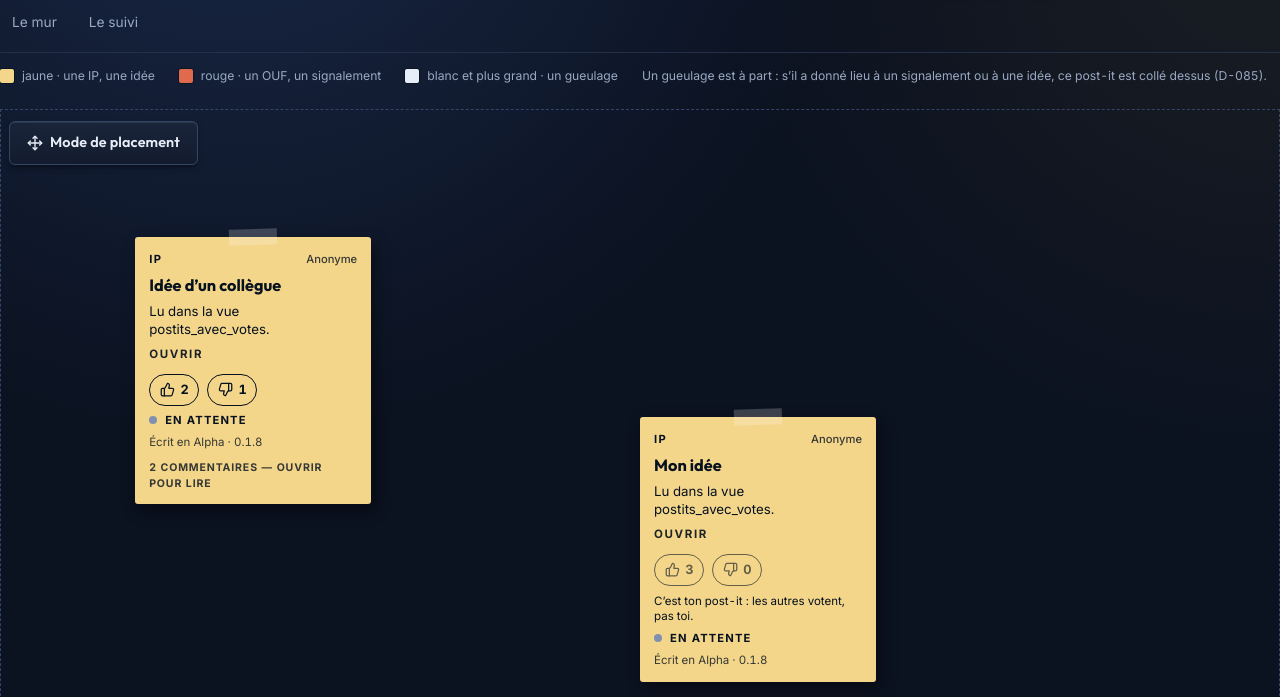
Test case: relire ou retirer son post-it (#139) › retirer mon post-it passe par la confirmation, puis par la couture
Check: the text "Mon idée" is shown, box [654,455,722,475]
Click the button with aria-label "Agrandir le post-it « Mon idée »".
click(758, 487)  # box [654,431,862,544]
(page scrolled)
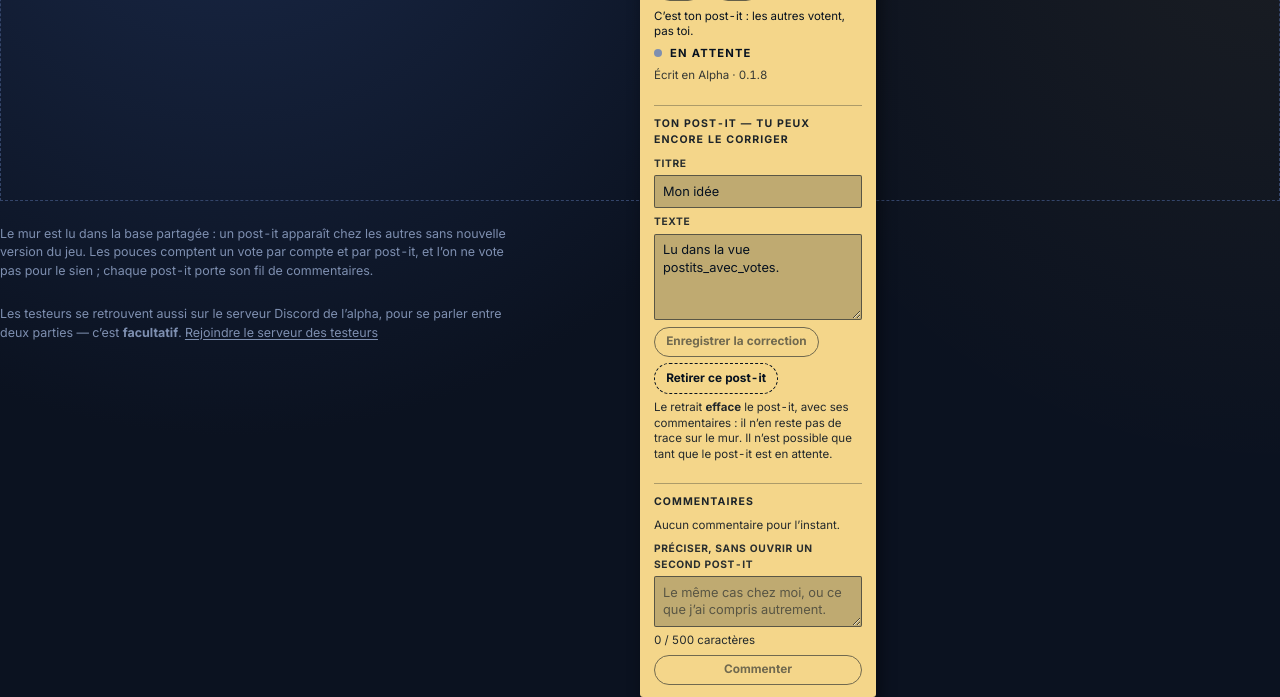
Click the button "Retirer ce post-it".
click(716, 379)  # box [654,363,778,394]
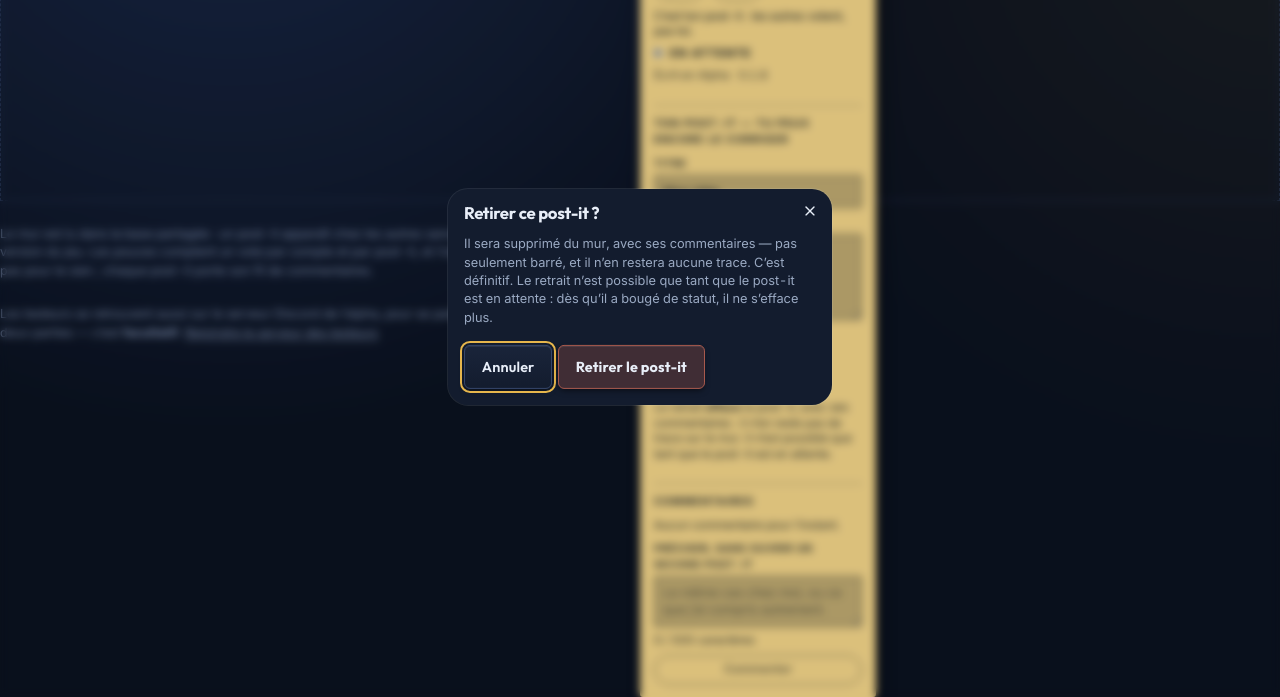
Check: the dialog "Retirer ce post-it ?" shows "supprimé du mur", box [464,236,798,324]
Click the button "Retirer le post-it".
click(631, 367)  # box [558,345,705,389]
(page scrolled)
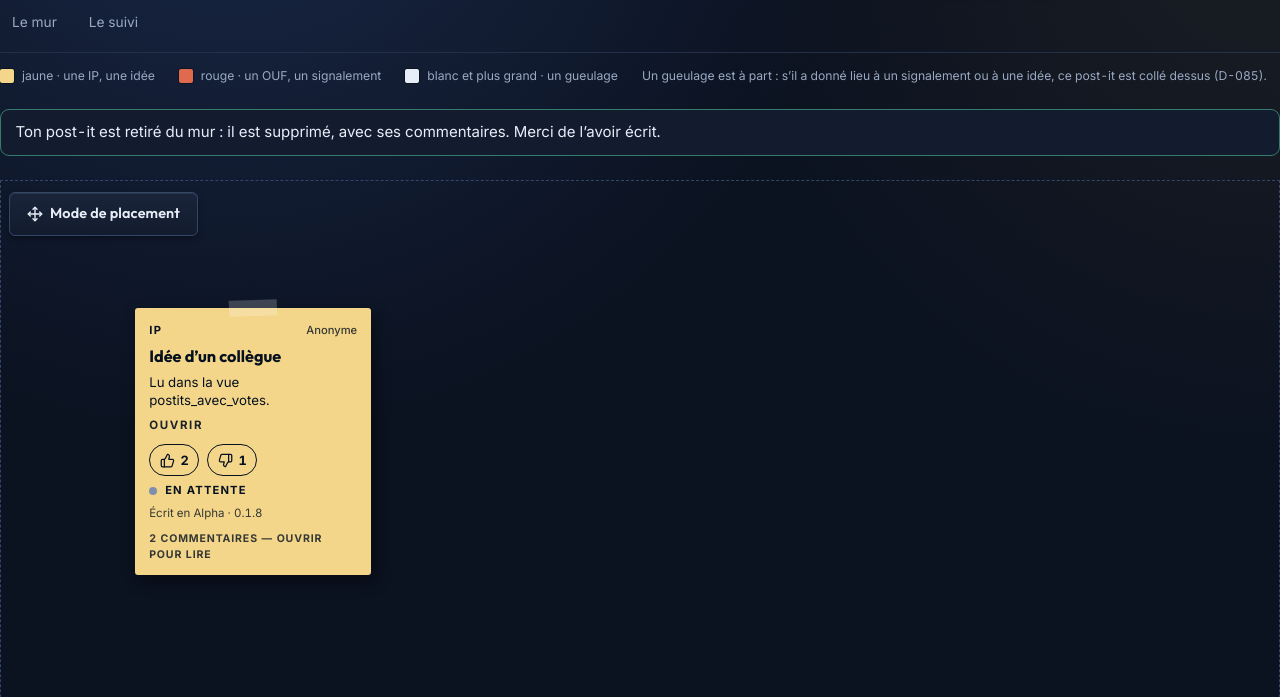
Check: the text "Ton post-it est retiré du mur" is shown, box [15,122,661,141]
